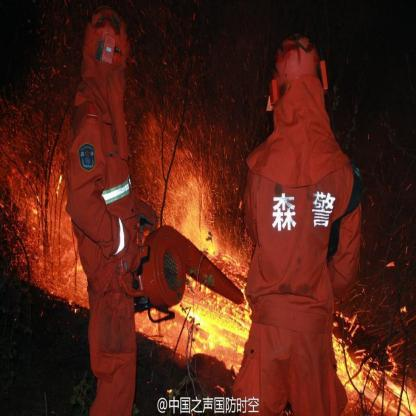fire: (5, 116, 90, 311), (331, 301, 415, 414), (144, 124, 215, 244), (175, 291, 251, 374)
other: (140, 213, 252, 317), (264, 176, 335, 238), (99, 177, 135, 203), (114, 211, 128, 266)
